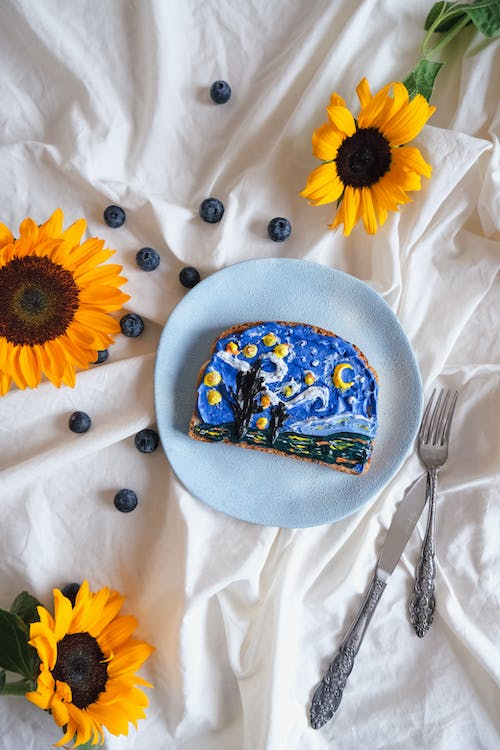knife: (305, 471, 430, 731)
